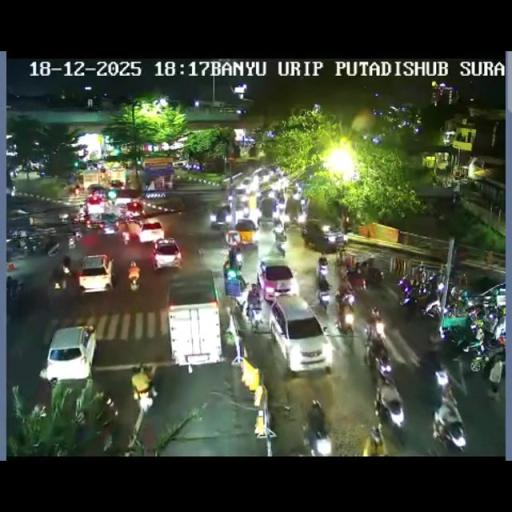Car: (166, 262, 222, 366), (268, 298, 330, 374), (42, 325, 96, 383), (256, 259, 298, 301), (78, 254, 114, 292), (151, 238, 182, 272), (229, 186, 250, 221), (138, 220, 164, 244), (234, 218, 258, 244), (89, 212, 120, 232), (258, 196, 278, 226), (320, 226, 346, 249), (210, 204, 231, 230), (86, 194, 108, 216), (125, 200, 143, 218), (172, 160, 189, 169), (110, 179, 123, 187)
Motorcycle: (368, 369, 406, 448), (459, 326, 504, 374), (432, 392, 466, 450), (222, 248, 246, 297), (131, 371, 156, 413), (365, 334, 390, 375), (306, 420, 333, 456), (335, 295, 356, 333), (96, 392, 119, 422), (365, 305, 383, 341), (446, 286, 468, 314), (6, 278, 23, 313), (246, 296, 263, 330), (344, 266, 366, 292), (50, 267, 70, 294), (316, 277, 332, 309), (402, 294, 420, 322), (22, 234, 46, 254), (231, 290, 247, 318), (464, 302, 486, 322), (423, 297, 442, 319), (429, 327, 443, 356), (492, 312, 506, 340), (364, 266, 383, 286), (273, 228, 286, 256), (434, 366, 448, 388), (44, 235, 58, 255), (317, 256, 329, 278), (129, 271, 141, 291), (38, 366, 49, 384), (297, 212, 307, 230), (68, 231, 78, 249), (74, 210, 86, 225), (336, 248, 345, 266), (299, 197, 308, 213), (272, 216, 282, 230), (280, 211, 290, 224), (122, 229, 130, 245)
